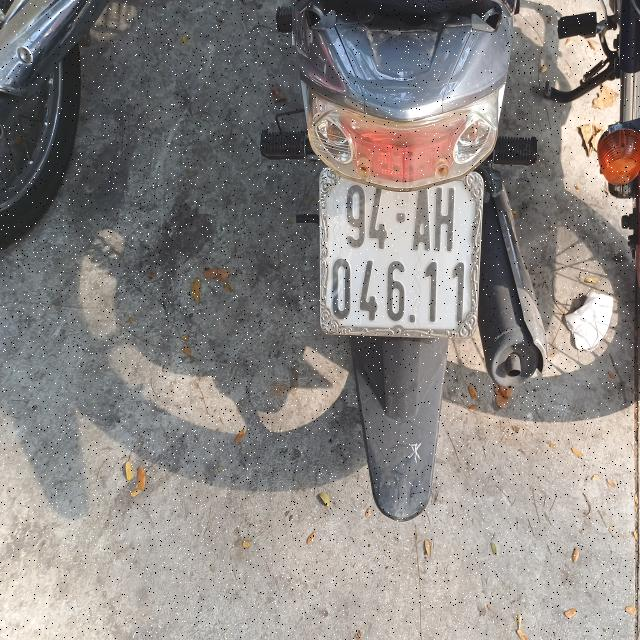0: (330, 257, 350, 319)
1: (424, 261, 443, 325), (450, 260, 466, 330)
4: (370, 183, 388, 250), (360, 263, 378, 326)
6: (384, 261, 407, 323)
9: (342, 181, 367, 251)
A: (414, 186, 434, 259)
H: (435, 177, 458, 256)
